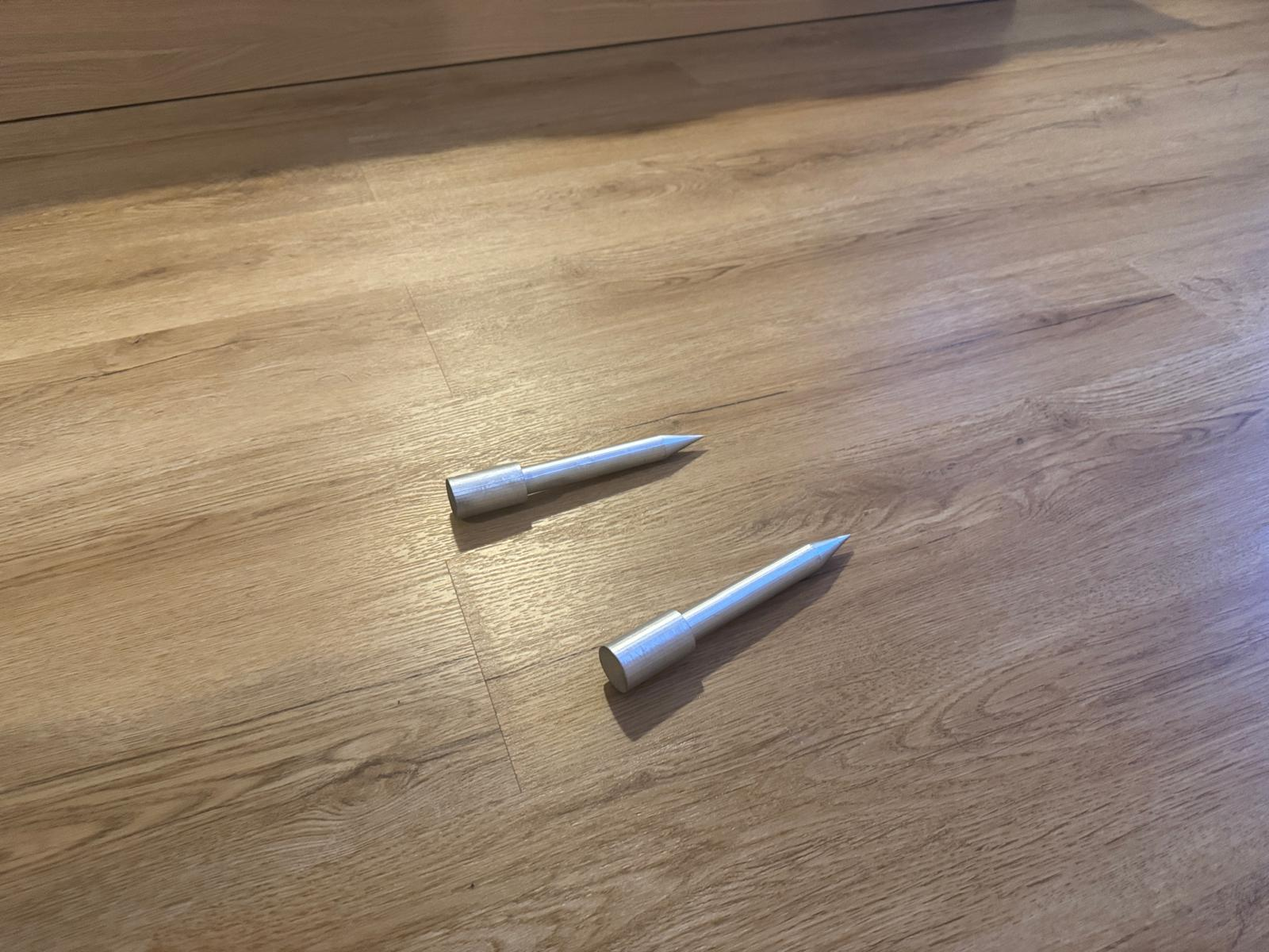probes: (595, 533, 855, 693), (445, 433, 705, 518)
